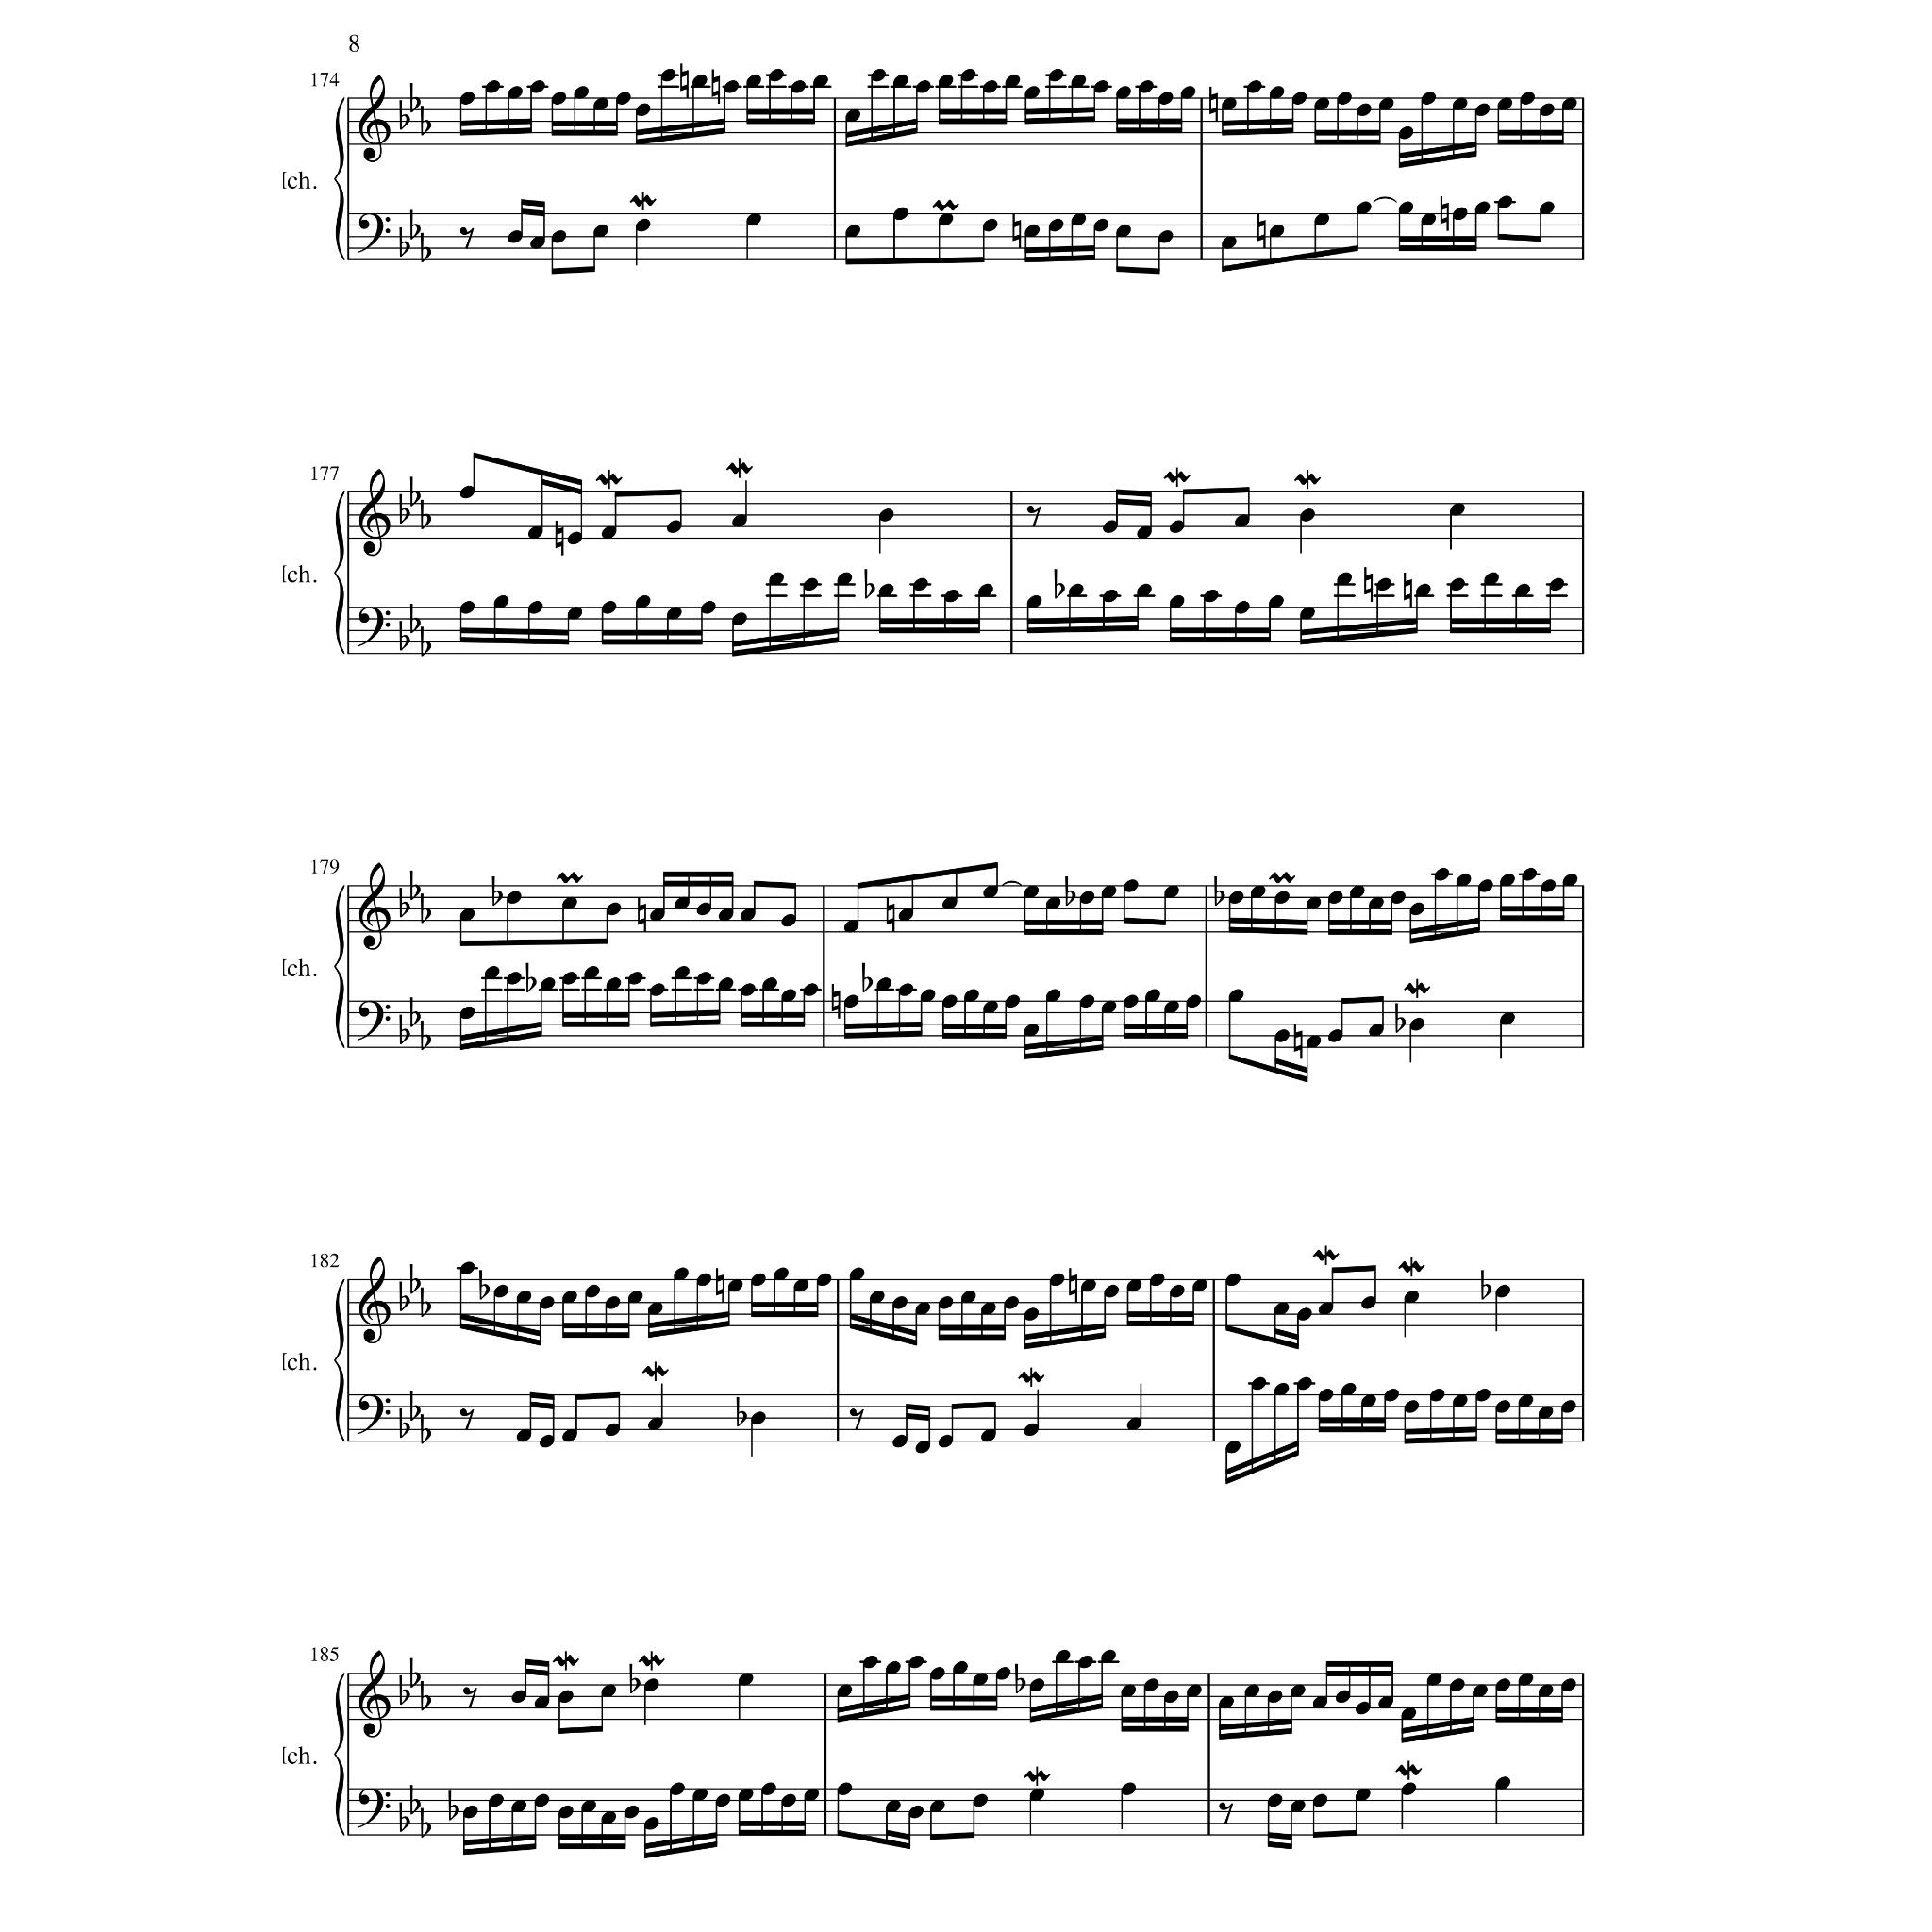brace: (333, 885, 344, 1049), (333, 1278, 344, 1442), (333, 1673, 344, 1837), (333, 98, 344, 260), (333, 492, 344, 655)
fClef: (357, 1000, 391, 1041), (357, 1394, 391, 1436), (357, 213, 391, 253), (357, 608, 391, 647), (357, 1789, 391, 1828)
gClef: (358, 75, 391, 163), (358, 469, 391, 558), (358, 862, 391, 951), (358, 1256, 391, 1344), (358, 1650, 391, 1739)
noteheadBlack: (1245, 79, 1262, 94), (1092, 79, 1109, 94), (723, 79, 740, 94), (981, 79, 998, 94), (1234, 513, 1251, 528), (1375, 577, 1392, 592), (1449, 577, 1466, 592), (458, 485, 475, 500), (802, 577, 819, 592), (911, 577, 928, 592), (1274, 891, 1291, 906), (1498, 1011, 1515, 1026), (506, 891, 523, 906), (1162, 1689, 1179, 1704), (1266, 1689, 1283, 1704), (1100, 1649, 1117, 1664), (1400, 1781, 1417, 1796), (668, 1781, 685, 1796), (836, 1781, 853, 1796), (1138, 79, 1153, 94), (530, 79, 545, 94), (485, 79, 500, 94), (915, 79, 930, 94), (791, 79, 806, 94), (1549, 577, 1564, 592), (1300, 606, 1315, 621), (567, 606, 582, 621), (666, 606, 681, 621), (732, 513, 747, 528), (1228, 891, 1243, 906), (1079, 891, 1094, 906), (1328, 891, 1343, 906), (1391, 891, 1406, 906), (843, 919, 858, 934), (1055, 1649, 1070, 1664), (1121, 1781, 1136, 1796), (1335, 1689, 1350, 1704), (558, 1689, 574, 1704), (511, 1689, 526, 1704), (761, 1781, 776, 1796), (1221, 98, 1238, 111), (1221, 236, 1238, 249), (1291, 92, 1307, 106), (1313, 98, 1330, 111), (1313, 213, 1330, 226), (1092, 219, 1109, 232), (1047, 69, 1064, 82), (1047, 219, 1064, 232), (1070, 75, 1087, 88), (1070, 213, 1087, 226), (1157, 92, 1174, 106), (1157, 230, 1174, 243), (1179, 86, 1196, 99), (1115, 86, 1132, 99), (1115, 225, 1132, 238), (1560, 98, 1577, 111), (1496, 98, 1513, 111), (1496, 196, 1513, 209), (1519, 92, 1536, 106), (1336, 92, 1353, 106), (1474, 104, 1491, 117), (1474, 202, 1491, 215), (1451, 98, 1468, 111), (1451, 208, 1468, 221), (615, 92, 632, 106), (634, 104, 651, 117), (634, 219, 651, 232), (592, 98, 609, 111), (592, 225, 609, 238), (745, 75, 762, 88), (745, 213, 762, 226), (691, 75, 708, 88), (458, 92, 475, 106), (1004, 75, 1021, 88), (981, 219, 998, 232), (768, 69, 785, 82), (870, 69, 887, 82), (1136, 584, 1153, 597), (1234, 601, 1251, 614), (1202, 590, 1219, 603), (1136, 526, 1153, 540), (1068, 584, 1085, 597), (1483, 573, 1500, 586), (1336, 573, 1353, 586), (1449, 503, 1466, 516), (1415, 584, 1432, 597), (600, 526, 617, 540), (600, 601, 617, 614), (526, 601, 543, 614), (526, 526, 543, 540), (492, 595, 509, 608), (458, 601, 475, 614), (877, 584, 894, 597), (877, 508, 894, 522), (836, 573, 853, 586), (977, 584, 994, 597), (700, 601, 717, 614), (768, 573, 785, 586), (1185, 994, 1202, 1008), (1274, 1029, 1291, 1042), (1249, 885, 1266, 898), (1004, 994, 1021, 1008), (1023, 885, 1040, 898), (1023, 1024, 1040, 1037), (1143, 990, 1160, 1003), (1100, 885, 1117, 898), (1100, 1001, 1117, 1014), (1540, 880, 1557, 893), (1521, 868, 1538, 881), (1498, 874, 1515, 887), (1349, 885, 1366, 898), (1455, 874, 1472, 887), (649, 908, 666, 922), (649, 983, 666, 996), (583, 966, 600, 979), (717, 908, 734, 922), (717, 977, 734, 991), (674, 897, 691, 910), (674, 966, 691, 979), (458, 908, 475, 922), (458, 1007, 475, 1020), (560, 897, 577, 910), (560, 972, 577, 985), (483, 966, 500, 979), (506, 972, 523, 985), (875, 977, 892, 991), (919, 990, 936, 1003), (802, 983, 819, 996), (1224, 1441, 1241, 1454), (1224, 1274, 1241, 1287), (1079, 1279, 1096, 1292), (1023, 1424, 1040, 1437), (1023, 1307, 1040, 1321), (1517, 1394, 1534, 1407), (1560, 1400, 1577, 1413), (1494, 1285, 1511, 1298), (1494, 1400, 1511, 1413), (1317, 1389, 1334, 1402), (1317, 1302, 1334, 1315), (1428, 1389, 1445, 1402), (1383, 1389, 1400, 1402), (604, 1296, 621, 1309), (604, 1424, 621, 1437), (626, 1291, 643, 1304), (560, 1291, 577, 1304), (560, 1429, 577, 1442), (726, 1279, 743, 1292), (458, 1262, 475, 1275), (538, 1296, 555, 1309), (538, 1435, 555, 1448), (515, 1429, 532, 1442), (515, 1291, 532, 1304), (492, 1285, 509, 1298), (868, 1291, 885, 1304), (815, 1274, 832, 1287), (792, 1279, 809, 1292), (1266, 1793, 1283, 1807), (1289, 1684, 1306, 1697), (1289, 1800, 1306, 1813), (972, 1673, 989, 1686), (1028, 1678, 1045, 1691), (1028, 1789, 1045, 1802), (994, 1667, 1011, 1680), (972, 1793, 989, 1807), (1077, 1656, 1094, 1669), (1517, 1673, 1534, 1686), (1560, 1678, 1577, 1691), (1494, 1776, 1511, 1790), (1494, 1678, 1511, 1691), (1472, 1684, 1489, 1697), (1311, 1793, 1328, 1807), (1311, 1696, 1328, 1709), (1449, 1678, 1466, 1691), (1400, 1707, 1417, 1721), (1377, 1696, 1394, 1709), (623, 1806, 640, 1819), (487, 1793, 504, 1807), (836, 1684, 853, 1697), (908, 1656, 924, 1669), (908, 1806, 924, 1819), (928, 1667, 945, 1680), (928, 1800, 945, 1813), (1270, 86, 1285, 99), (1270, 225, 1285, 238), (1540, 104, 1555, 117), (1540, 202, 1555, 215), (1378, 98, 1393, 111), (1398, 126, 1413, 140), (1398, 202, 1413, 215), (1357, 104, 1372, 117), (1357, 202, 1372, 215), (1421, 92, 1436, 106), (1421, 213, 1436, 226), (574, 86, 589, 99), (660, 69, 675, 82), (530, 236, 545, 249), (551, 92, 566, 106), (551, 230, 566, 243), (508, 86, 523, 99), (508, 230, 523, 243), (938, 75, 953, 88), (938, 213, 953, 226), (892, 75, 908, 88), (892, 208, 908, 221), (960, 69, 975, 82), (1024, 86, 1040, 99), (1024, 225, 1040, 238), (845, 225, 860, 238), (845, 109, 860, 123), (813, 75, 828, 88), (1169, 595, 1184, 608), (1169, 521, 1184, 534), (1026, 595, 1041, 608), (1268, 595, 1283, 608), (1102, 590, 1117, 603), (1102, 521, 1117, 534), (1515, 584, 1530, 597), (1300, 508, 1315, 522), (567, 532, 582, 545), (666, 521, 681, 534), (636, 595, 651, 608), (943, 590, 958, 603), (732, 612, 747, 625), (1228, 990, 1243, 1003), (1164, 885, 1179, 898), (1164, 1001, 1179, 1014), (1045, 897, 1060, 910), (1045, 990, 1060, 1003), (1079, 994, 1094, 1008), (1123, 880, 1138, 893), (1123, 994, 1138, 1008), (1562, 874, 1577, 887), (1477, 880, 1492, 893), (1369, 897, 1384, 910), (1369, 1024, 1384, 1037), (1306, 897, 1321, 910), (1306, 1035, 1321, 1048), (1328, 1029, 1343, 1042), (1434, 868, 1449, 881), (1409, 903, 1424, 916), (1409, 1018, 1424, 1031), (628, 972, 643, 985), (606, 903, 621, 916), (606, 977, 621, 991), (696, 972, 711, 985), (696, 903, 711, 916), (540, 977, 555, 991), (898, 983, 913, 996), (898, 908, 913, 922), (964, 990, 979, 1003), (983, 885, 998, 898), (983, 1001, 998, 1014), (941, 897, 957, 910), (941, 994, 957, 1008), (781, 914, 796, 927), (781, 990, 796, 1003), (762, 977, 777, 991), (740, 908, 755, 922), (740, 983, 755, 996), (843, 994, 858, 1008), (1192, 1279, 1207, 1292), (1296, 1377, 1311, 1391), (1296, 1307, 1311, 1321), (1274, 1383, 1289, 1396), (1274, 1302, 1289, 1315), (1251, 1377, 1266, 1391), (1049, 1274, 1064, 1287), (1004, 1296, 1019, 1309), (1170, 1285, 1185, 1298), (1149, 1274, 1164, 1287), (1126, 1417, 1141, 1430), (1126, 1279, 1141, 1292), (1104, 1285, 1119, 1298), (1538, 1406, 1553, 1419), (1475, 1389, 1491, 1402), (1360, 1394, 1375, 1407), (1341, 1383, 1357, 1396), (1360, 1296, 1375, 1309), (1453, 1394, 1468, 1407), (1404, 1400, 1419, 1413), (1404, 1291, 1419, 1304), (585, 1285, 600, 1298), (696, 1274, 711, 1287), (674, 1267, 689, 1280), (647, 1417, 662, 1430), (647, 1302, 662, 1315), (981, 1429, 996, 1442), (892, 1296, 908, 1309), (892, 1435, 908, 1448), (960, 1291, 975, 1304), (981, 1302, 996, 1315), (938, 1435, 953, 1448), (938, 1296, 953, 1309), (915, 1441, 930, 1454), (915, 1302, 930, 1315), (774, 1267, 789, 1280), (751, 1411, 766, 1424), (751, 1274, 766, 1287), (849, 1267, 864, 1280), (1219, 1696, 1234, 1709), (1187, 1684, 1202, 1697), (1244, 1684, 1259, 1697), (1143, 1678, 1158, 1691), (1121, 1684, 1136, 1697), (1538, 1684, 1553, 1697), (1355, 1701, 1370, 1714), (1355, 1789, 1370, 1802), (1426, 1673, 1441, 1686), (601, 1684, 616, 1697), (601, 1811, 616, 1824), (581, 1800, 596, 1813), (558, 1806, 574, 1819), (692, 1789, 708, 1802), (643, 1817, 658, 1830), (643, 1678, 658, 1691), (462, 1806, 477, 1819), (534, 1793, 549, 1807), (534, 1696, 549, 1709), (511, 1800, 526, 1813), (715, 1793, 730, 1807), (885, 1661, 900, 1674), (885, 1800, 900, 1813), (862, 1656, 877, 1669), (953, 1661, 968, 1674), (738, 1789, 753, 1802), (738, 1673, 753, 1686), (804, 1789, 819, 1802), (781, 1793, 796, 1807)
rest8th: (459, 227, 475, 250), (1026, 506, 1041, 528), (459, 1408, 475, 1431), (849, 1408, 864, 1431), (1218, 1802, 1233, 1824), (462, 1687, 477, 1709)
